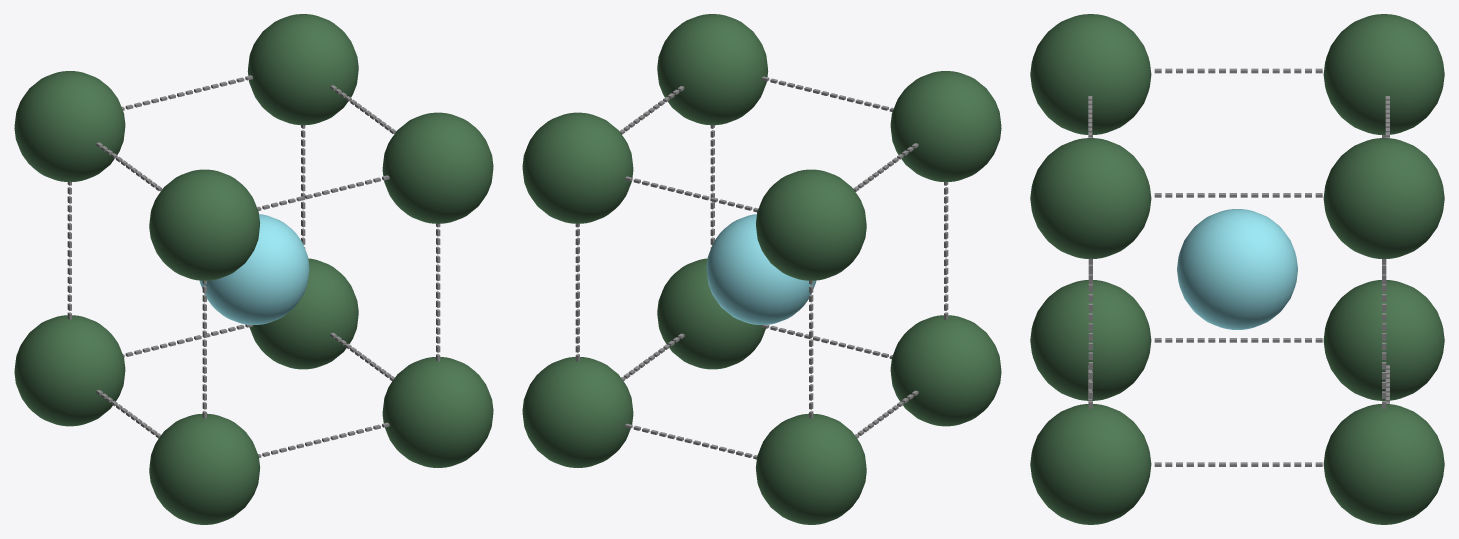
The model's file is lvhuase2.FBX.
3 views of the same model, side by side, from view 1: azimuth 30°, elevation 25°; view 2: azimuth 150°, elevation 25°; view 3: azimuth 270°, elevation 25° (orthographic). The views are drawn at different scales.
Visible parts, largest first — view 1: Sphere013, Sphere014, Sphere016, Sphere011, Sphere008, Sphere009, Sphere007, Sphere015, Sphere010; view 2: Sphere008, Sphere009, Sphere007, Sphere010, Sphere013, Sphere014, Sphere016, Sphere015, Sphere011; view 3: Sphere007, Sphere016, Sphere015, Sphere011, Sphere010, Sphere013, Sphere008, Sphere014, Sphere009.
Part boxes in pixels (box(x1,y1,x2,y2)): Sphere013: box(149, 169, 259, 280); Sphere014: box(149, 413, 260, 524); Sphere016: box(382, 112, 493, 223); Sphere011: box(382, 357, 493, 467); Sphere008: box(14, 71, 125, 182); Sphere009: box(14, 315, 125, 426); Sphere007: box(247, 14, 358, 125); Sphere015: box(199, 214, 309, 324); Sphere010: box(249, 258, 358, 369); Sphere008: box(756, 169, 866, 280); Sphere009: box(755, 413, 866, 524); Sphere007: box(522, 112, 633, 223); Sphere010: box(522, 357, 633, 467); Sphere013: box(890, 71, 1001, 182); Sphere014: box(890, 315, 1001, 426); Sphere016: box(657, 14, 768, 125); Sphere015: box(706, 214, 816, 324); Sphere011: box(657, 258, 765, 369); Sphere007: box(1323, 138, 1444, 258); Sphere016: box(1030, 138, 1151, 258); Sphere015: box(1177, 209, 1297, 329); Sphere011: box(1030, 404, 1151, 524); Sphere010: box(1323, 404, 1444, 524); Sphere013: box(1030, 14, 1151, 134); Sphere008: box(1323, 14, 1444, 134); Sphere014: box(1030, 280, 1151, 400); Sphere009: box(1323, 280, 1444, 400).
Bounding box in the file's own units: 37.78 × 37.78 × 37.78.
